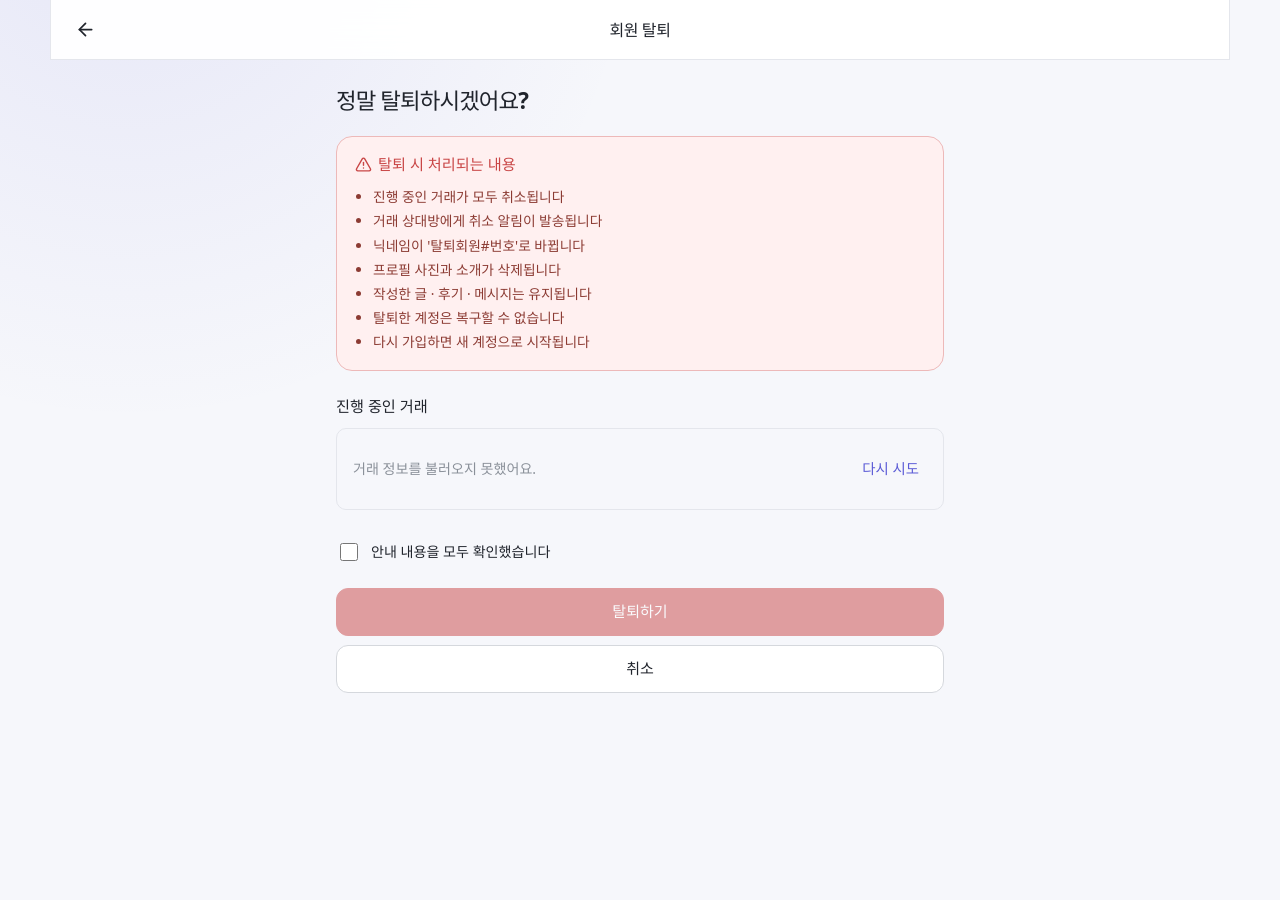
개발자 B 마이페이지 계정 › MY-003 회원 탈퇴 › 거래 미리 보기가 실패해도 탈퇴는 막지 않는다
Expected: the text "거래 정보를 불러오지 못했어요." is shown, [353, 458, 536, 479]
Click the checkbox labelled "안내 내용을 모두 확인했습니다". click: x=349, y=552
box: [340, 543, 358, 561]
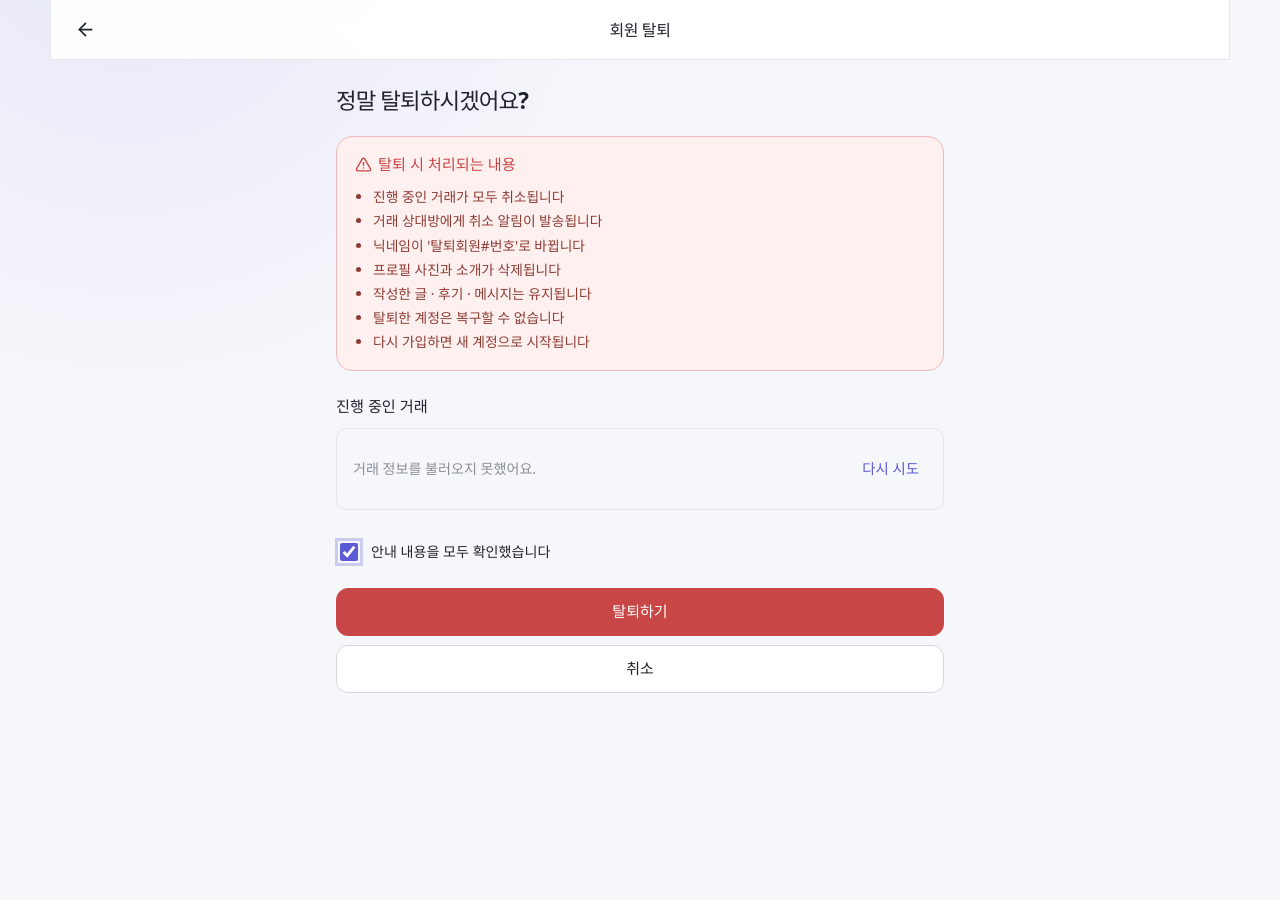
Now the button "탈퇴하기" is enabled, box [336, 588, 944, 636]
